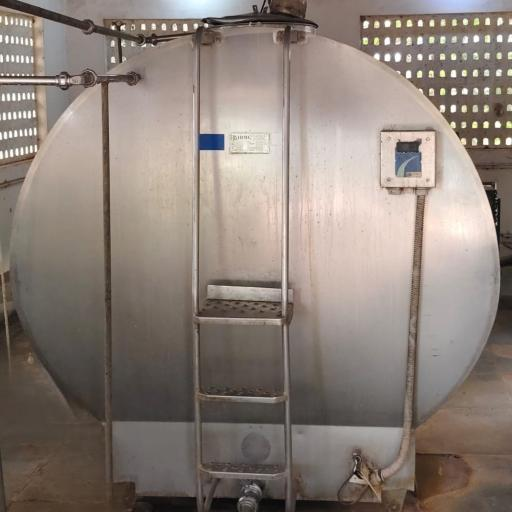silo: (7, 10, 498, 489)
